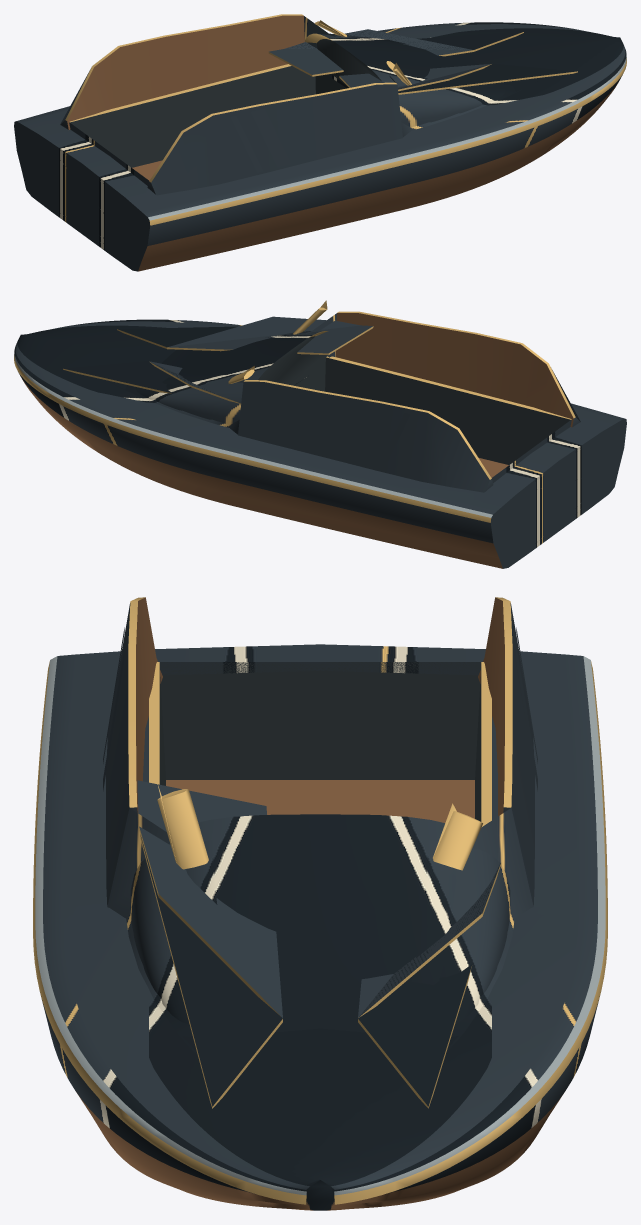
File: Hull_28_UR_黒漆・本金縁.glb
3 views of the same model, one above another, from view 1: azimuth 30°, elevation 25°; view 2: azimuth 150°, elevation 25°; view 3: azimuth 270°, elevation 25° (orthographic). The views are drawn at different scales.
Visible parts, largest first — view 1: Hull_28_UR; view 2: Hull_28_UR; view 3: Hull_28_UR.
Part boxes in pixels (bbox=[...]): Hull_28_UR: bbox=[14, 14, 626, 271]; Hull_28_UR: bbox=[14, 300, 626, 568]; Hull_28_UR: bbox=[33, 597, 607, 1210].
Size of the model in its own units: 2.9 by 0.694 by 1.34.
Materials: 4 (4 with a texture image).
